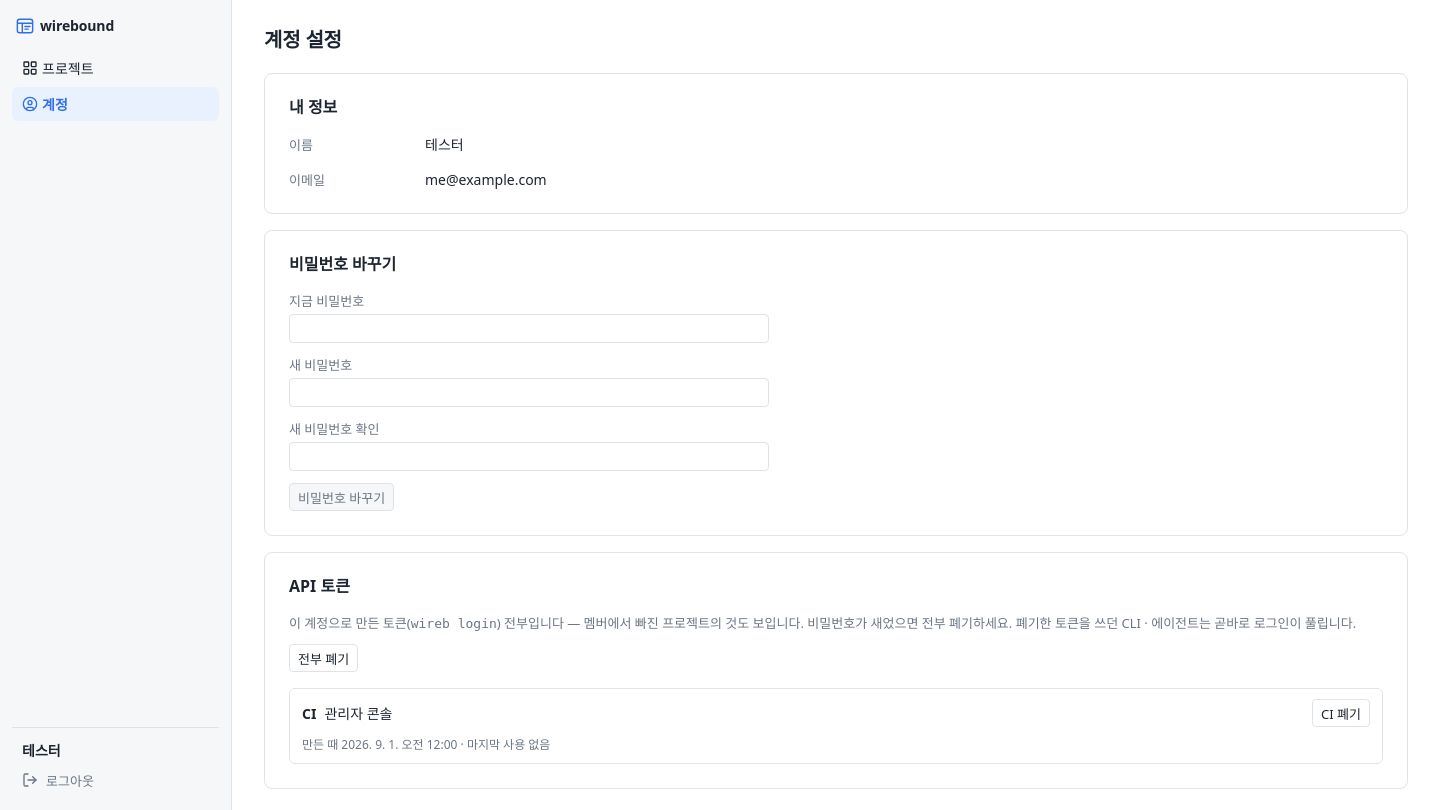
Scenario: API 토큰 절 › 하나 폐기가 404(이미 없다)면 성공으로 친다 — 실패 문장 없이 목록을 다시 받는다
Click the button "CI 폐기" at (1341, 713), box [1312,699,1370,727]
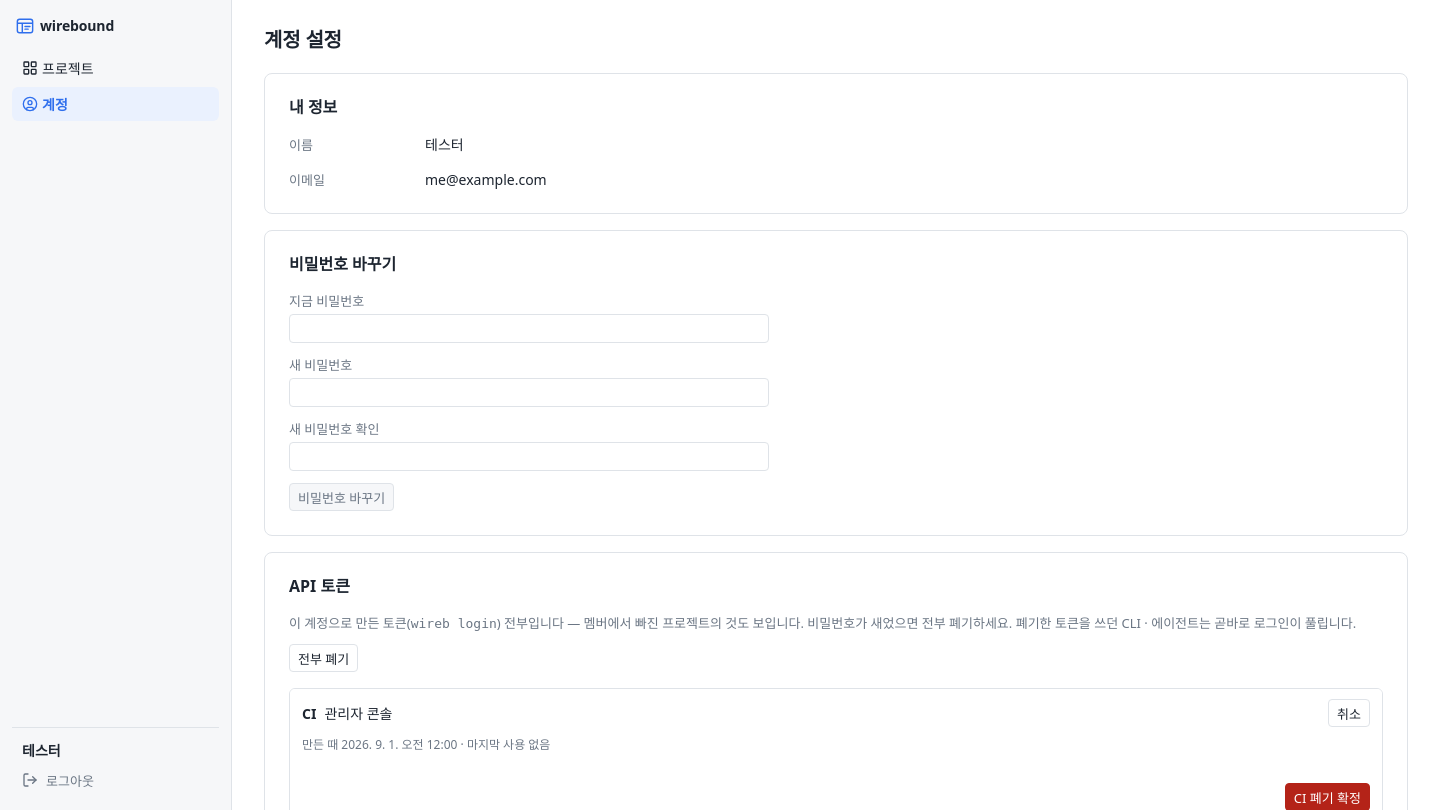
Click the button "CI 폐기 확정" at (1327, 797), box [1285,783,1370,809]
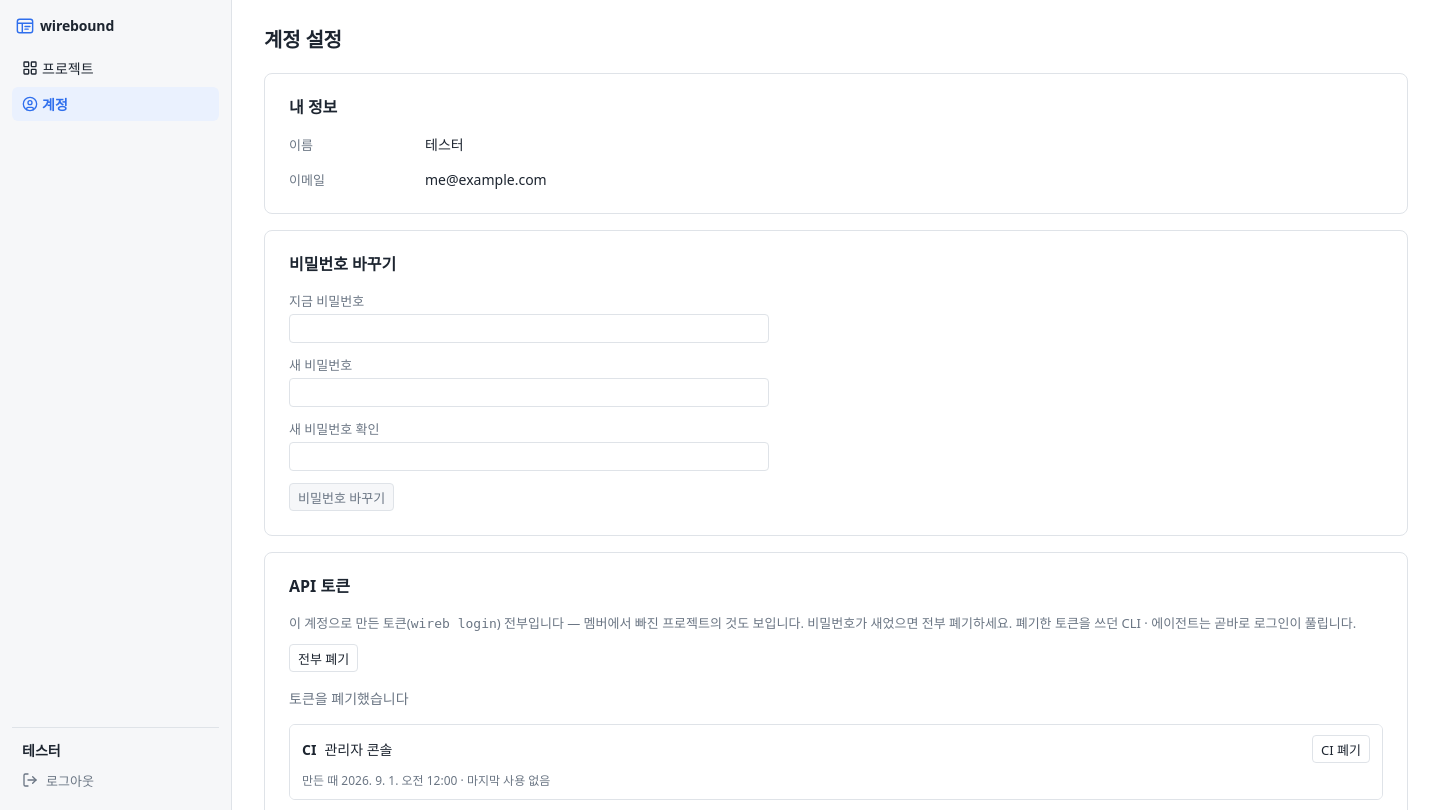
Result: the text "토큰을 폐기했습니다" is shown at [289,689,409,708]
